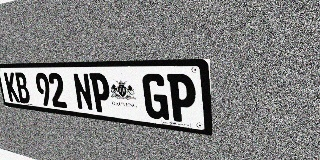2: (47, 73, 67, 108)
9: (34, 73, 53, 106)
B: (14, 72, 31, 104)
G: (142, 74, 169, 120)
K: (3, 72, 20, 102)
N: (72, 73, 94, 111)
P: (167, 74, 197, 124), (89, 73, 112, 114)
